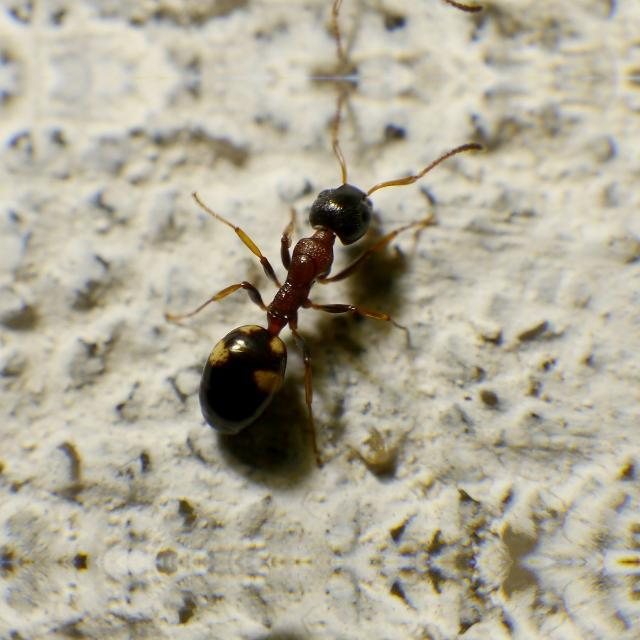Dolichoderus: (150, 119, 428, 461)
